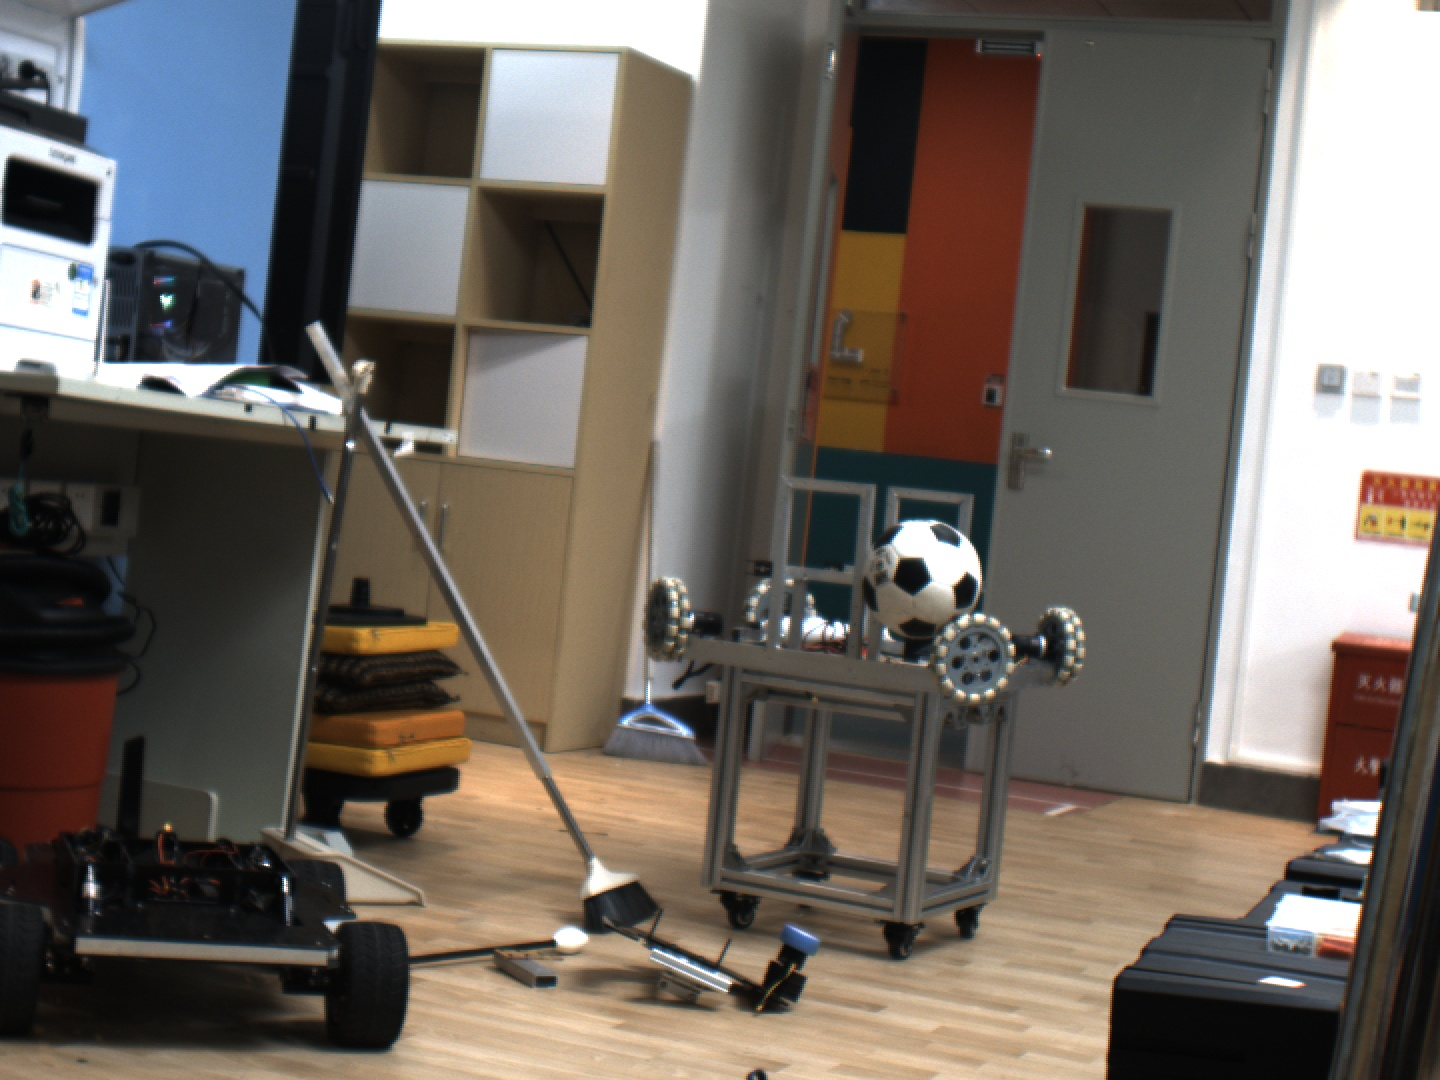ball: (847, 493, 1022, 648)
